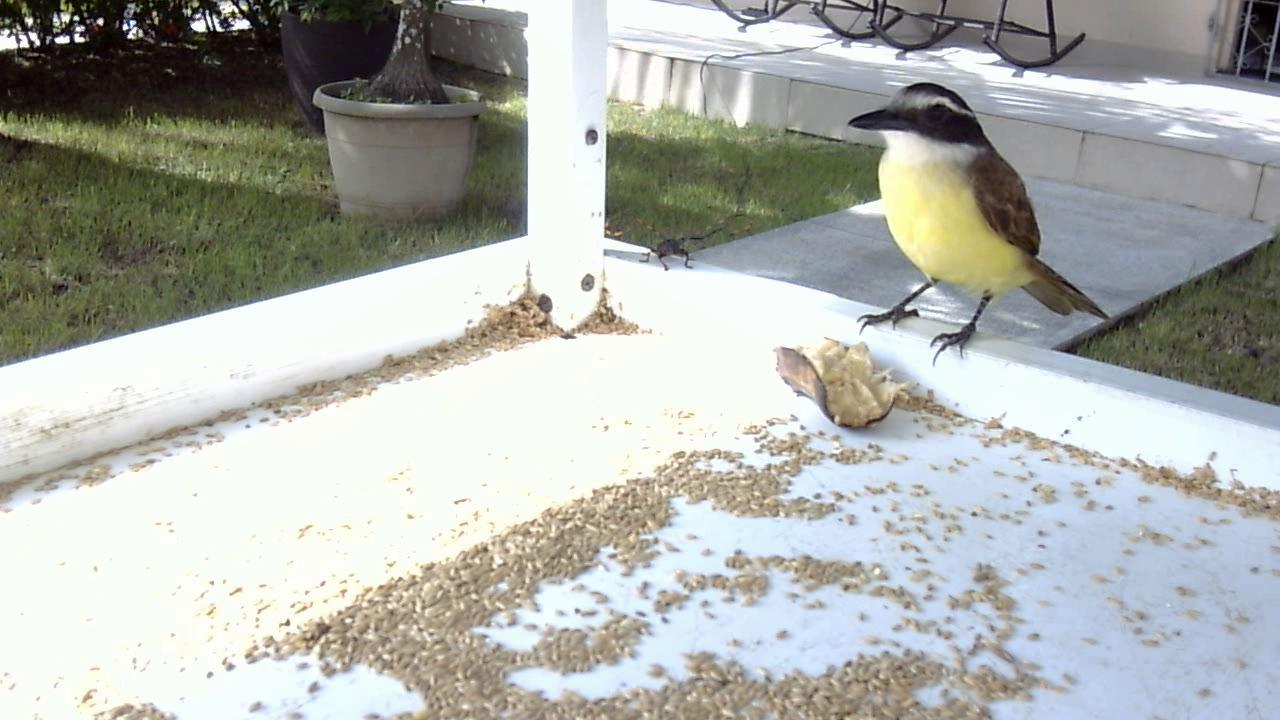bem_te_vi: (826, 72, 1109, 382)
